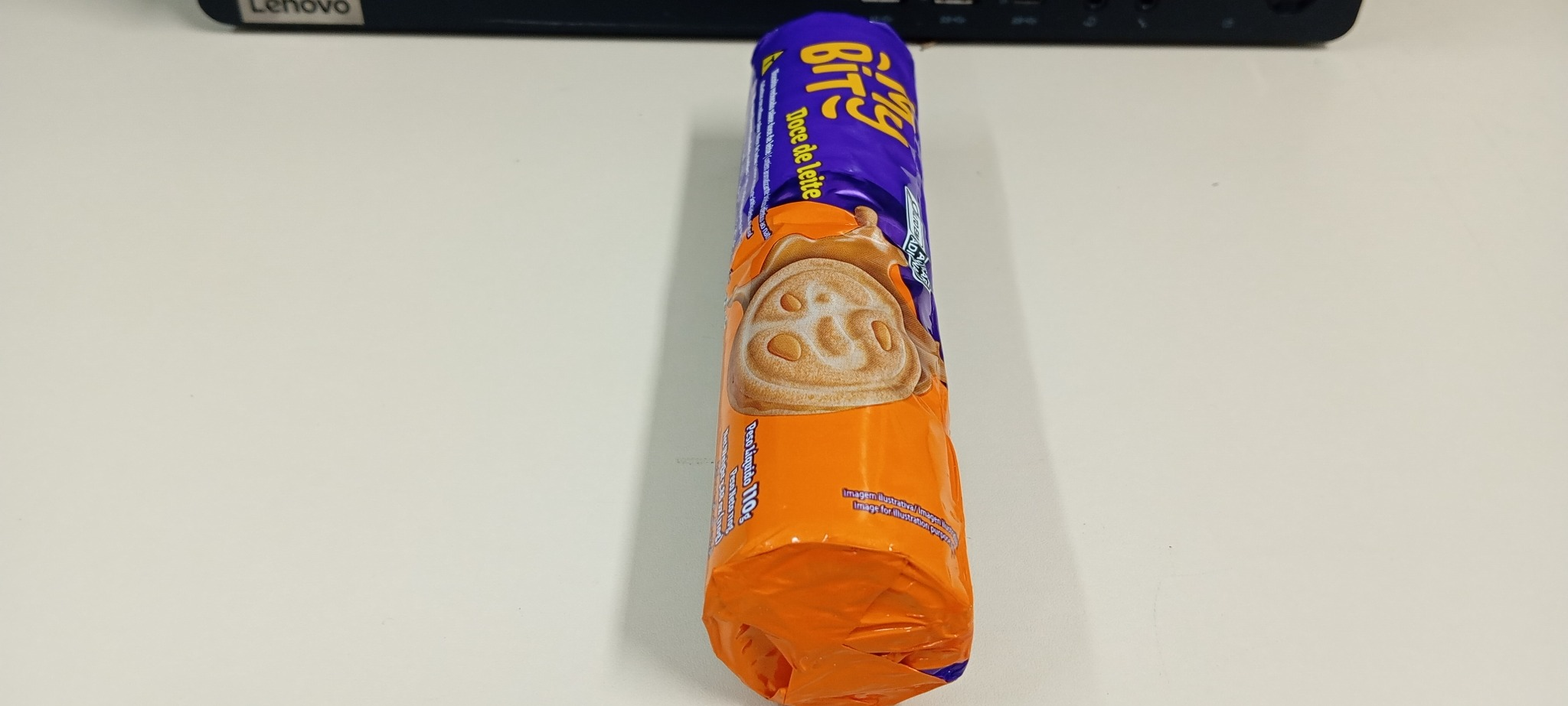my_bit_doce_leite: (692, 9, 990, 706)
